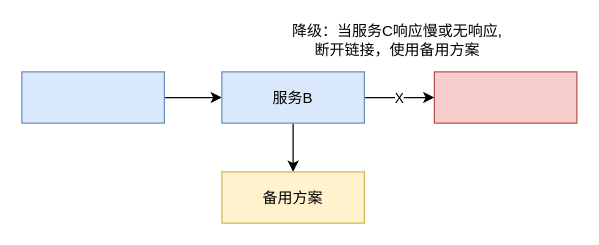
This 599x245 diagram has some shape labels left out. The shapes that lost their labels are listed below. From the top down, each one's box as (x1, y1, x2, y2) in pixels, then its label:
(21, 71, 164, 123): 服务A
(433, 71, 577, 123): 服务C
